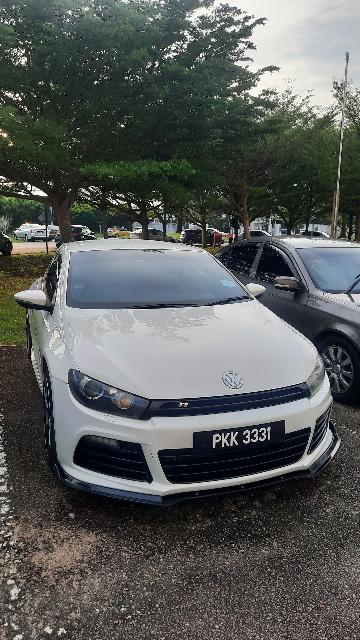License_Plate: (187, 416, 297, 463)
car: (18, 233, 350, 509)
